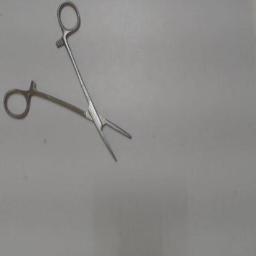Mayo Needle Holder: (0, 0, 152, 176)
